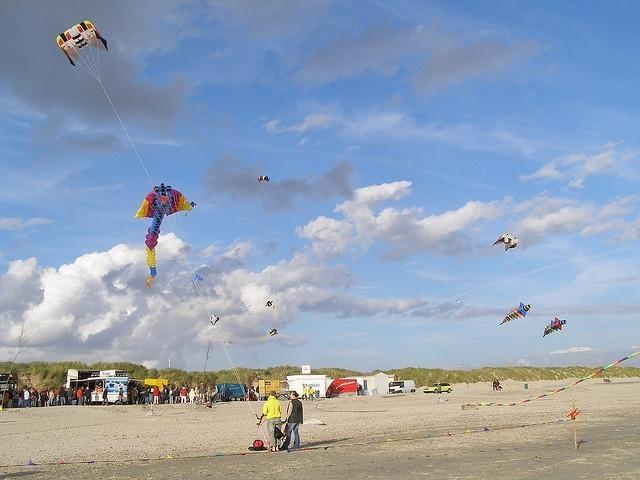car: (422, 382, 453, 394)
truck: (212, 382, 246, 402), (390, 380, 416, 393)
